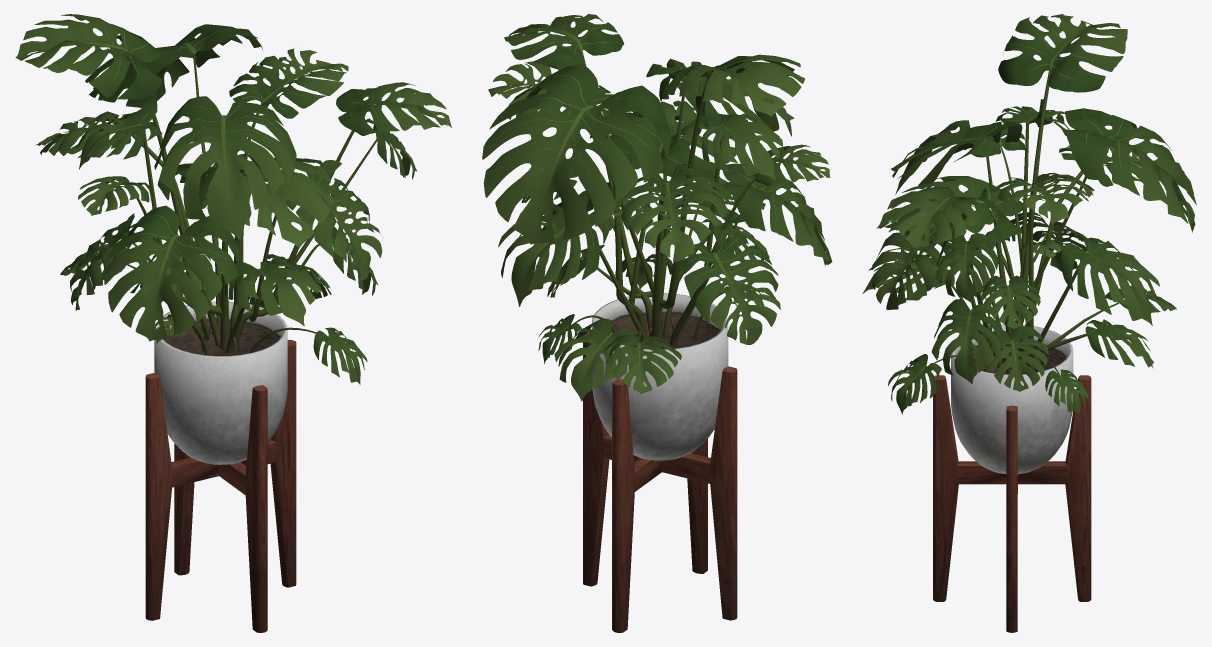
File: plant.glb
3 renders of one model, left to right at view 1: azimuth 30°, elevation 25°; view 2: azimuth 150°, elevation 25°; view 3: azimuth 270°, elevation 25°, orthographic. The views are drawn at different scales.
Visible parts, largest first — view 1: Leaves_Mat.1_0, Stand_Mat_0, root_HP_1_Mat.2_0; view 2: Leaves_Mat.1_0, Stand_Mat_0, root_HP_1_Mat.2_0; view 3: Leaves_Mat.1_0, Stand_Mat_0, root_HP_1_Mat.2_0.
Boxes of the visible parts, x1,y1,x2,y2 form: Leaves_Mat.1_0: (15,14,451,384); Stand_Mat_0: (145,301,296,632); root_HP_1_Mat.2_0: (124,53,376,355); Leaves_Mat.1_0: (482,14,832,401); Stand_Mat_0: (583,293,737,632); root_HP_1_Mat.2_0: (559,50,755,346); Leaves_Mat.1_0: (862,14,1196,414); Stand_Mat_0: (933,324,1091,632); root_HP_1_Mat.2_0: (933,68,1124,375).
Size of the model in its own units: 1.01 by 1.58 by 0.9162.
3 materials, 3 textured.
